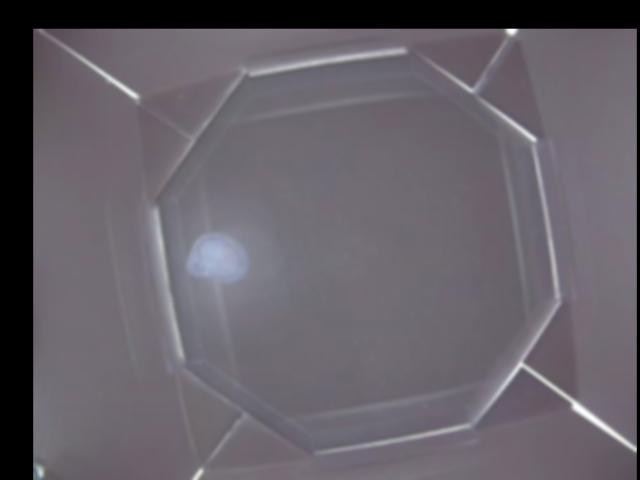Pebble: (186, 233, 247, 280)
